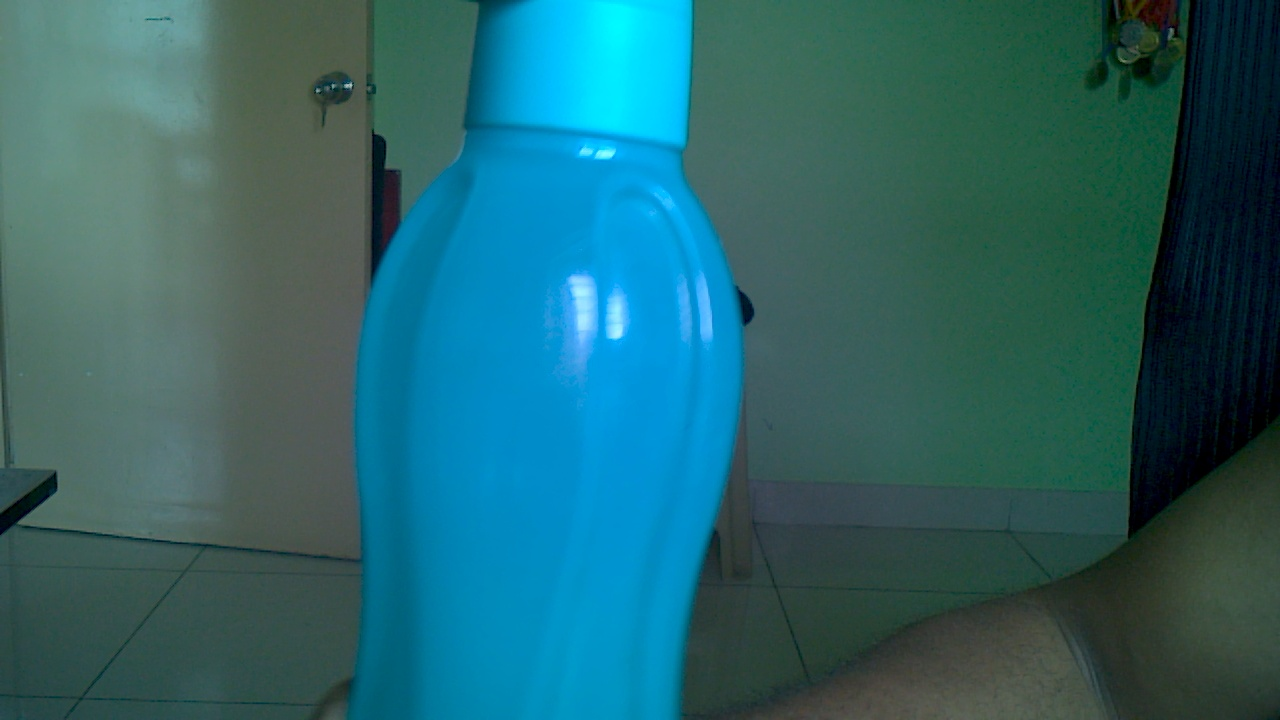waterbottle: (287, 1, 816, 720)
